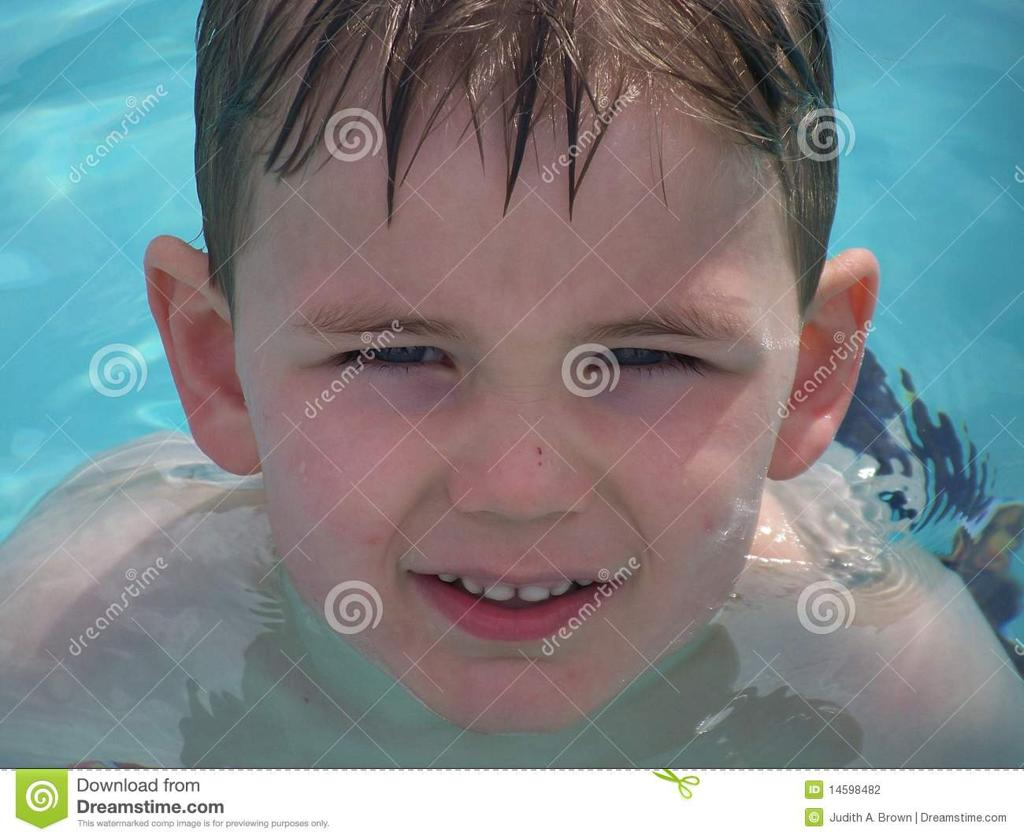face: (230, 154, 794, 720)
